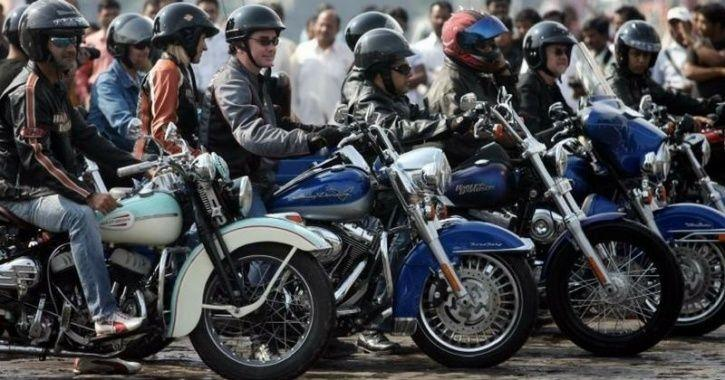helmet: (22, 6, 122, 207), (427, 5, 522, 148), (147, 5, 221, 176), (224, 5, 310, 149), (340, 17, 422, 159), (509, 3, 599, 117), (611, 16, 660, 121)
